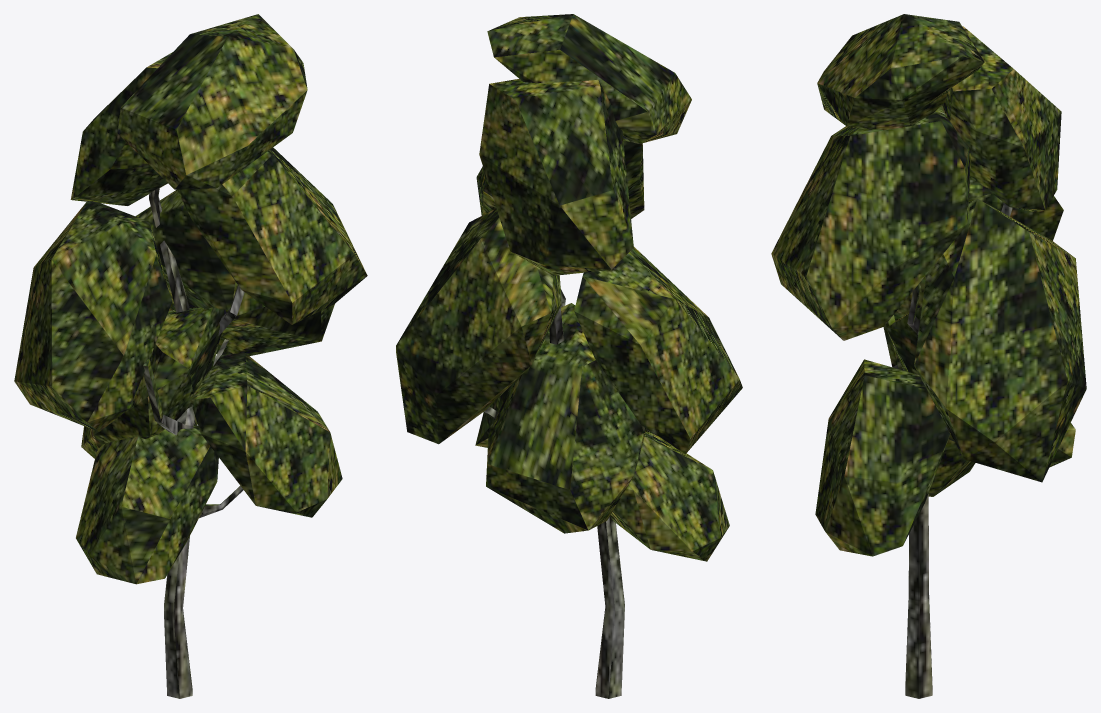
The model's file is tree_05.fbx.
3 renders of one model, left to right at view 1: azimuth 30°, elevation 25°; view 2: azimuth 150°, elevation 25°; view 3: azimuth 270°, elevation 25°, orthographic. The views are drawn at different scales.
Parts seen in each view (by area): view 1: Tree_Type5_03_fix_mesh; view 2: Tree_Type5_03_fix_mesh; view 3: Tree_Type5_03_fix_mesh.
Boxes of the visible parts, x1=… form: Tree_Type5_03_fix_mesh: x1=14, y1=14, x2=367, y2=698; Tree_Type5_03_fix_mesh: x1=396, y1=14, x2=742, y2=698; Tree_Type5_03_fix_mesh: x1=771, y1=14, x2=1086, y2=698.
Bounding box in the file's own units: 310 × 639 × 261.
Materials: 1 (1 with a texture image).
